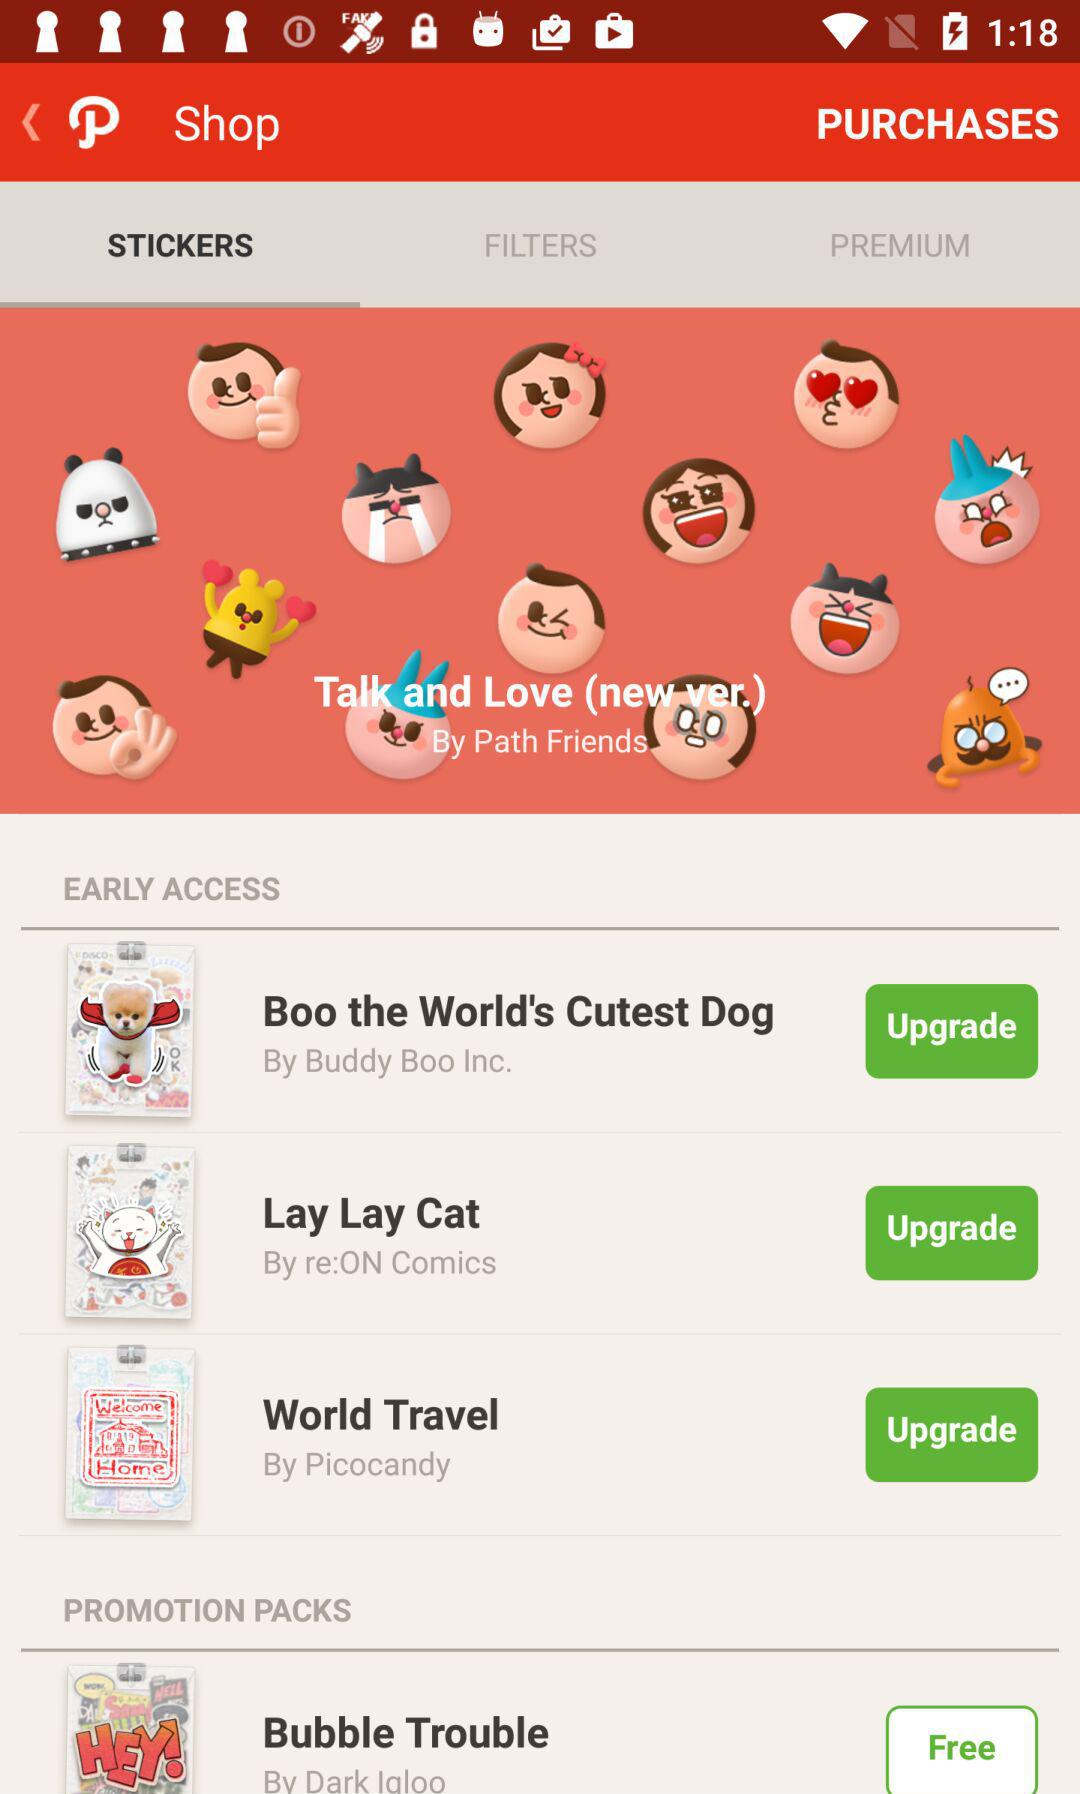Icon: (22, 104, 44, 144)
Image: (1, 309, 1080, 815), (65, 1143, 199, 1321), (65, 1344, 199, 1521), (67, 941, 193, 1119), (65, 1663, 199, 1794), (68, 95, 120, 151)
Text: (265, 993, 774, 1035), (313, 673, 767, 718), (265, 1715, 550, 1749), (264, 1196, 480, 1238), (263, 1397, 498, 1433), (265, 1048, 512, 1082), (817, 109, 1060, 142), (433, 727, 650, 761), (265, 1249, 498, 1281), (65, 1598, 354, 1624), (265, 1451, 452, 1483), (65, 876, 281, 902), (176, 104, 281, 152), (265, 1768, 447, 1794), (109, 235, 254, 259), (831, 235, 970, 258), (486, 235, 597, 259)
TextButton: (865, 1387, 1039, 1483), (865, 1185, 1039, 1281), (865, 984, 1039, 1080), (887, 1706, 1039, 1794)
Toolbar: (1, 64, 1080, 181)
UpperTaskBar: (1, 1, 1080, 64)
